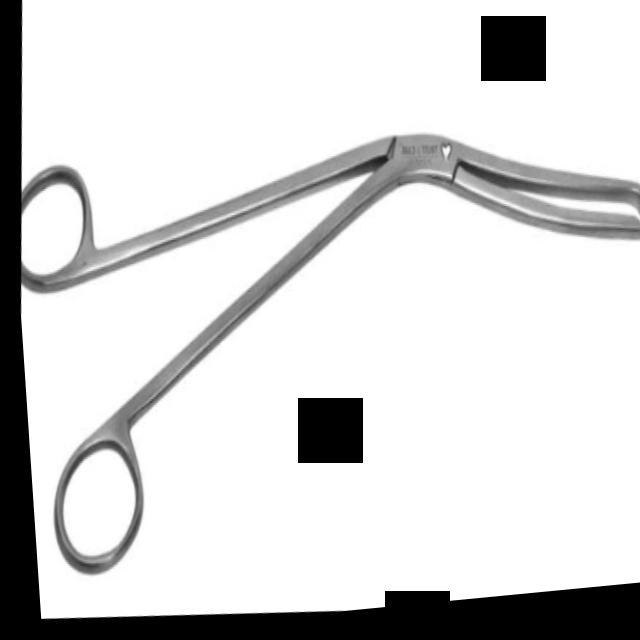Cheatle Forceps: (7, 80, 640, 618)
